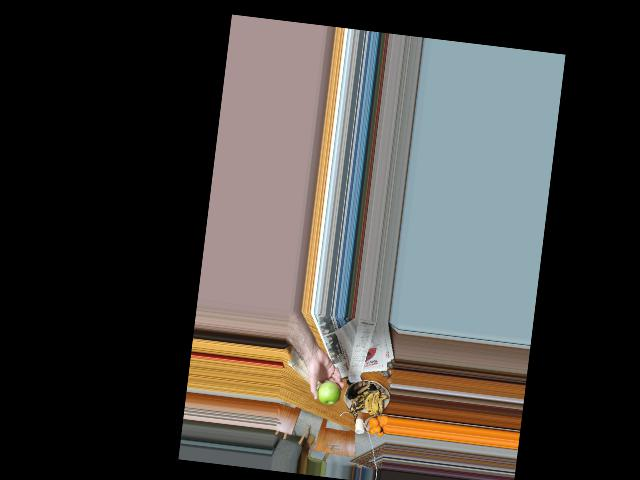apple: (316, 381, 342, 407)
